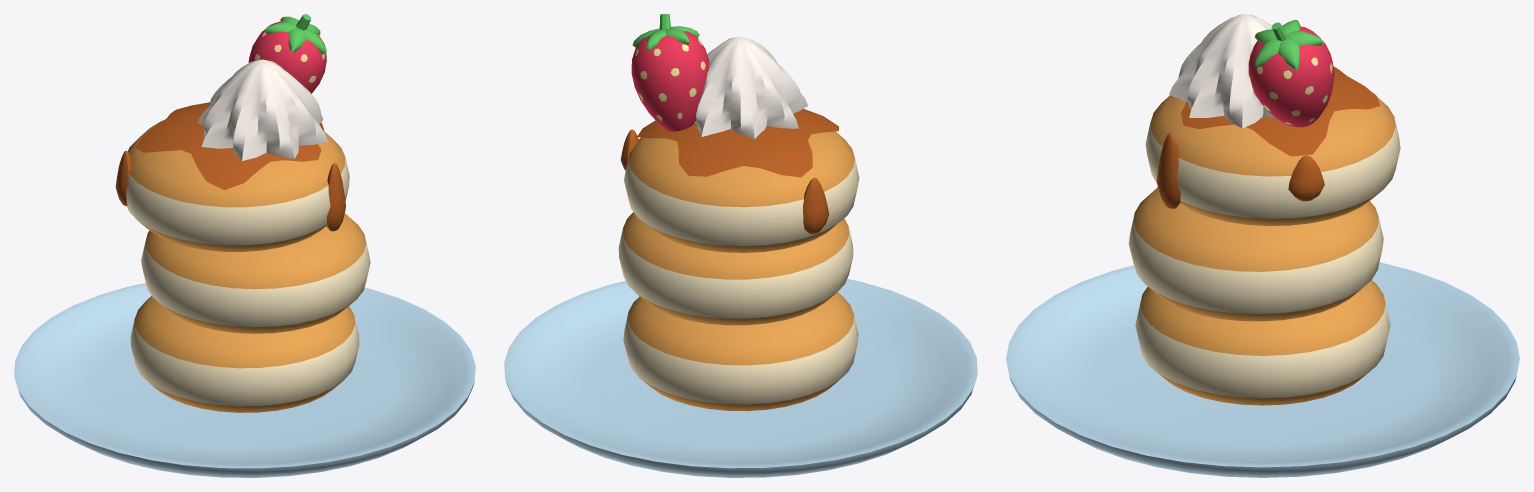
File: SoufflePancakes.glb
3 renders of one model, left to right at view 1: azimuth 30°, elevation 25°; view 2: azimuth 150°, elevation 25°; view 3: azimuth 270°, elevation 25°, orthographic. The views are drawn at different scales.
Visible parts, largest first — view 1: SoufflePancakes; view 2: SoufflePancakes; view 3: SoufflePancakes.
Part boxes in pixels (x1,y1,x2,y2): SoufflePancakes: [14, 14, 475, 477]; SoufflePancakes: [504, 14, 977, 477]; SoufflePancakes: [1006, 14, 1519, 477].
Size of the model in its own units: 1.53 by 1.34 by 1.53.
Materials: 7 (7 with a texture image).
